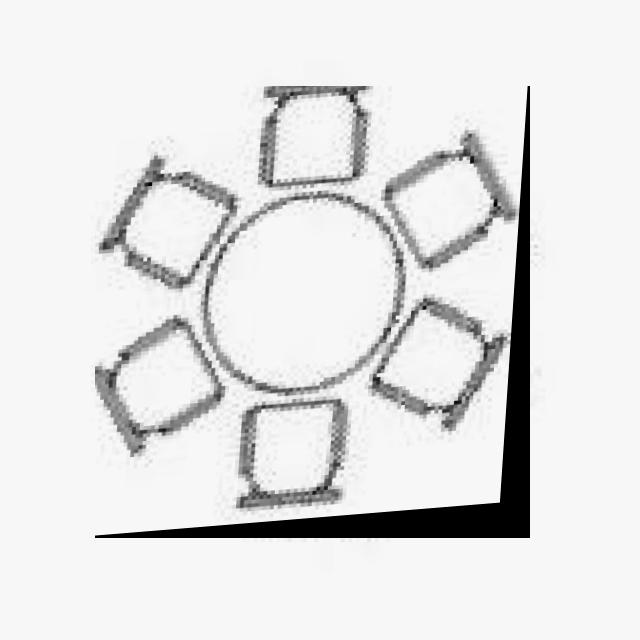table: (95, 86, 530, 538)
